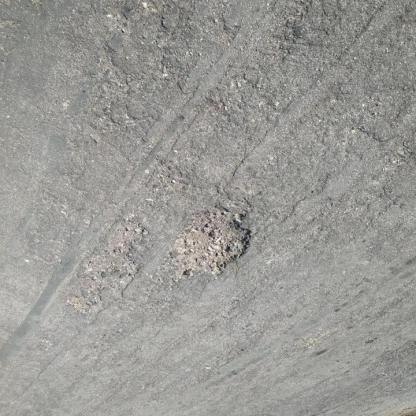pothole: (64, 218, 150, 314), (167, 206, 255, 283)
